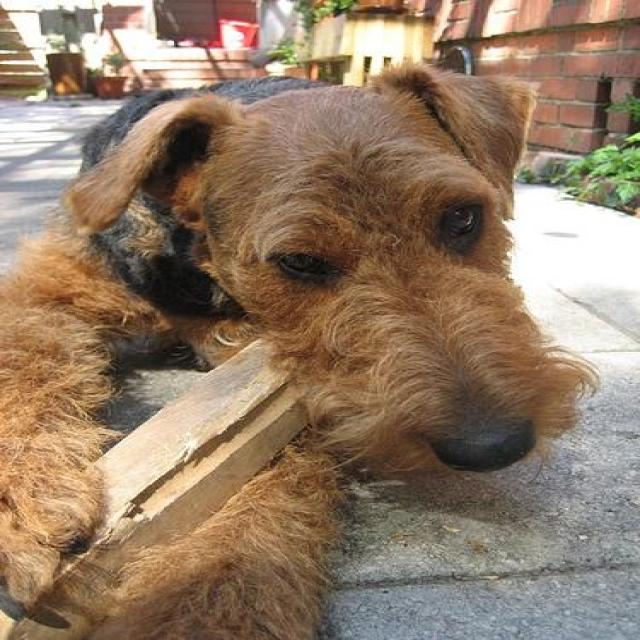airedale: (0, 62, 601, 638)
